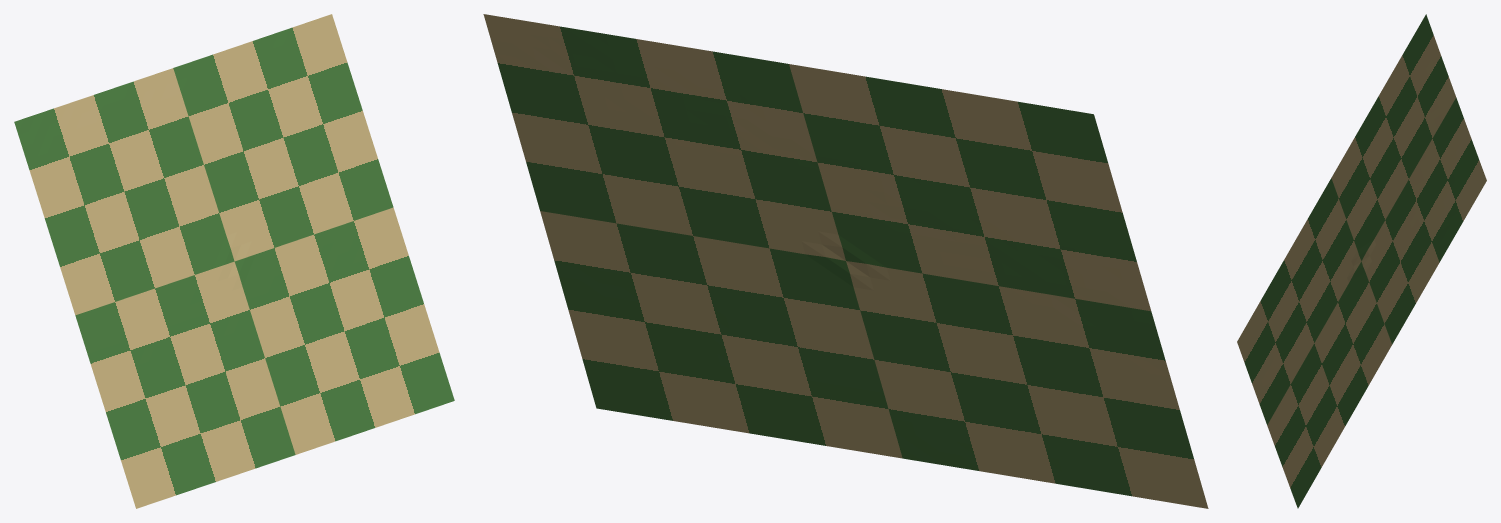
File: tile.glb
The picture shows the model from 3 angles, left to right: view 1: azimuth 30°, elevation 25°; view 2: azimuth 150°, elevation 25°; view 3: azimuth 270°, elevation 25°; orthographic projection. The views are drawn at different scales.
Size of the model in its own units: 31899 by 26209 by 18805.
1 material, 1 textured.
